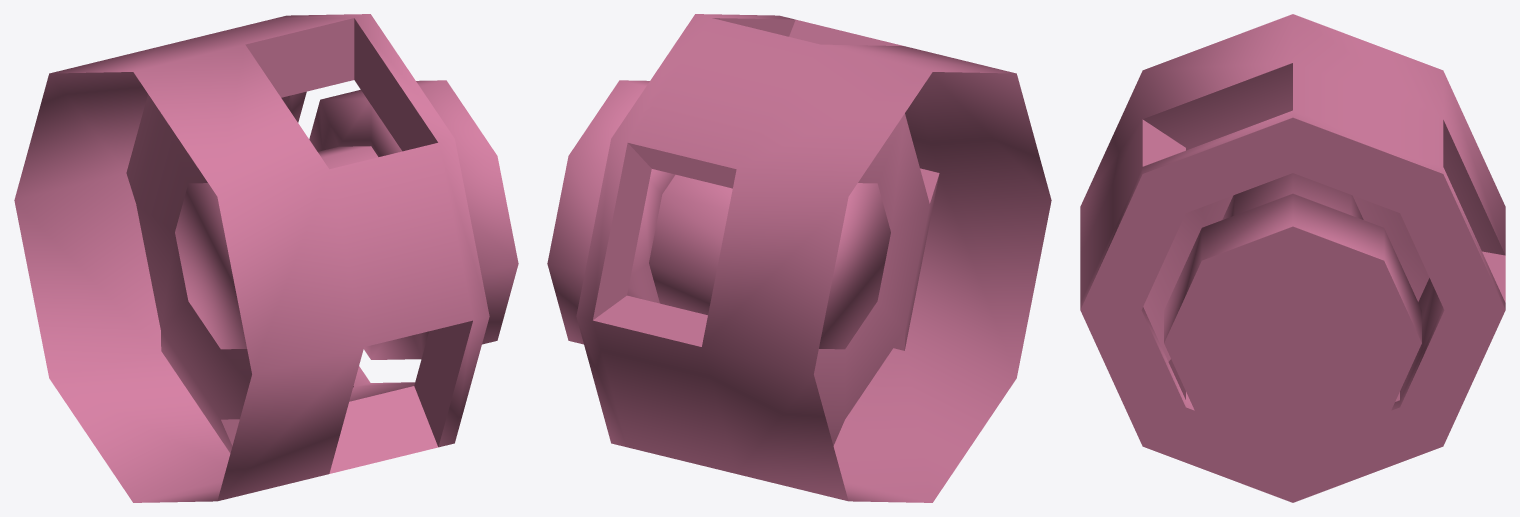
File: buttonA.fbx
3 renders of one model, left to right at view 1: azimuth 30°, elevation 25°; view 2: azimuth 150°, elevation 25°; view 3: azimuth 270°, elevation 25°, orthographic. The views are drawn at different scales.
Visible parts, largest first — view 1: Cylinder, Cylinder.001; view 2: Cylinder, Cylinder.001; view 3: Cylinder, Cylinder.001.
Boxes of the visible parts, <box> form: Cylinder: <box>14,14,489,502</box>; Cylinder.001: <box>175,80,518,359</box>; Cylinder: <box>576,14,1051,502</box>; Cylinder.001: <box>547,80,890,349</box>; Cylinder: <box>1080,14,1505,502</box>; Cylinder.001: <box>1164,173,1421,459</box>.
Bounding box in the file's own units: 123 × 162 × 162.
